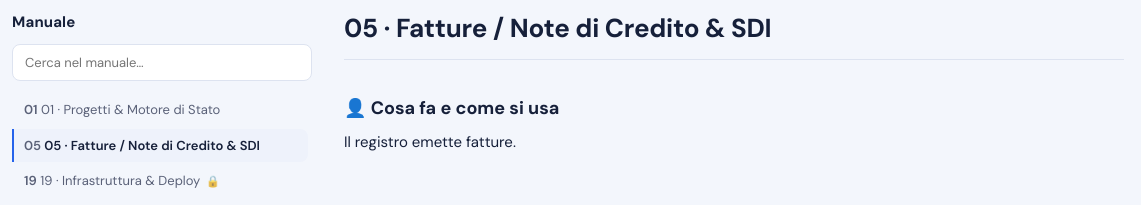
Test: AiutoPage — l’indice › scegliere una voce apre la sua scheda
Click the button "01 01 · Progetti & Motore di Stato" at (160, 110), box [12,93,308,126]
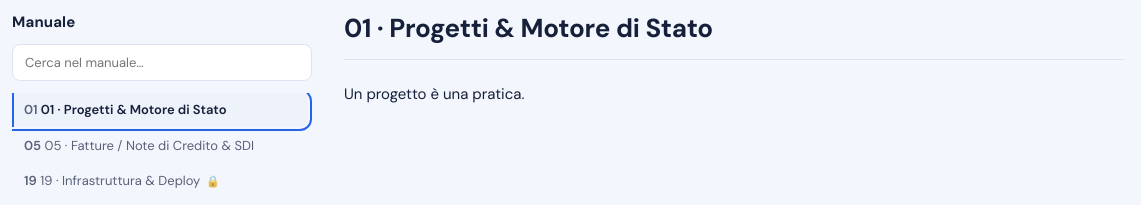
Now the text "Un progetto è una pratica." is shown, box [344,84,524,104]
